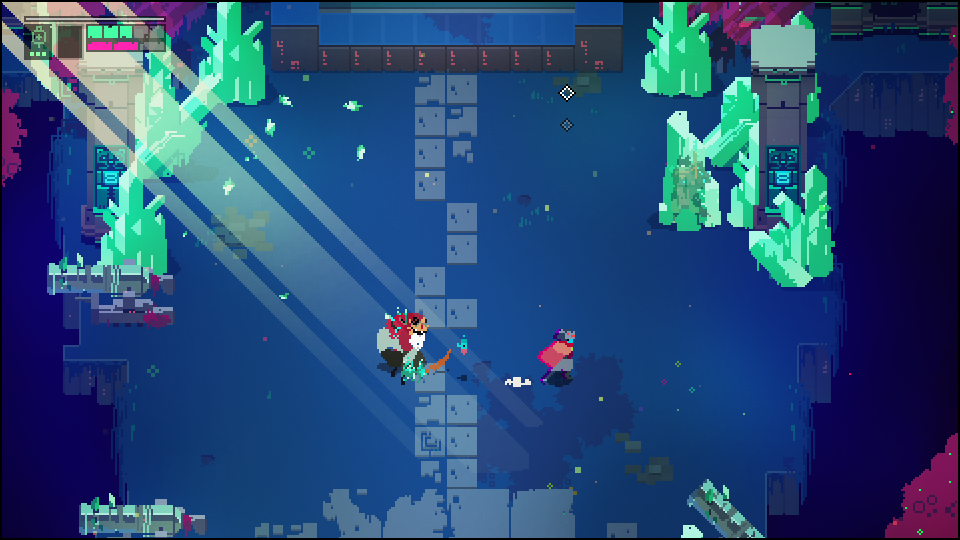hanged_man: (374, 307, 453, 379)
player: (539, 326, 576, 383)
